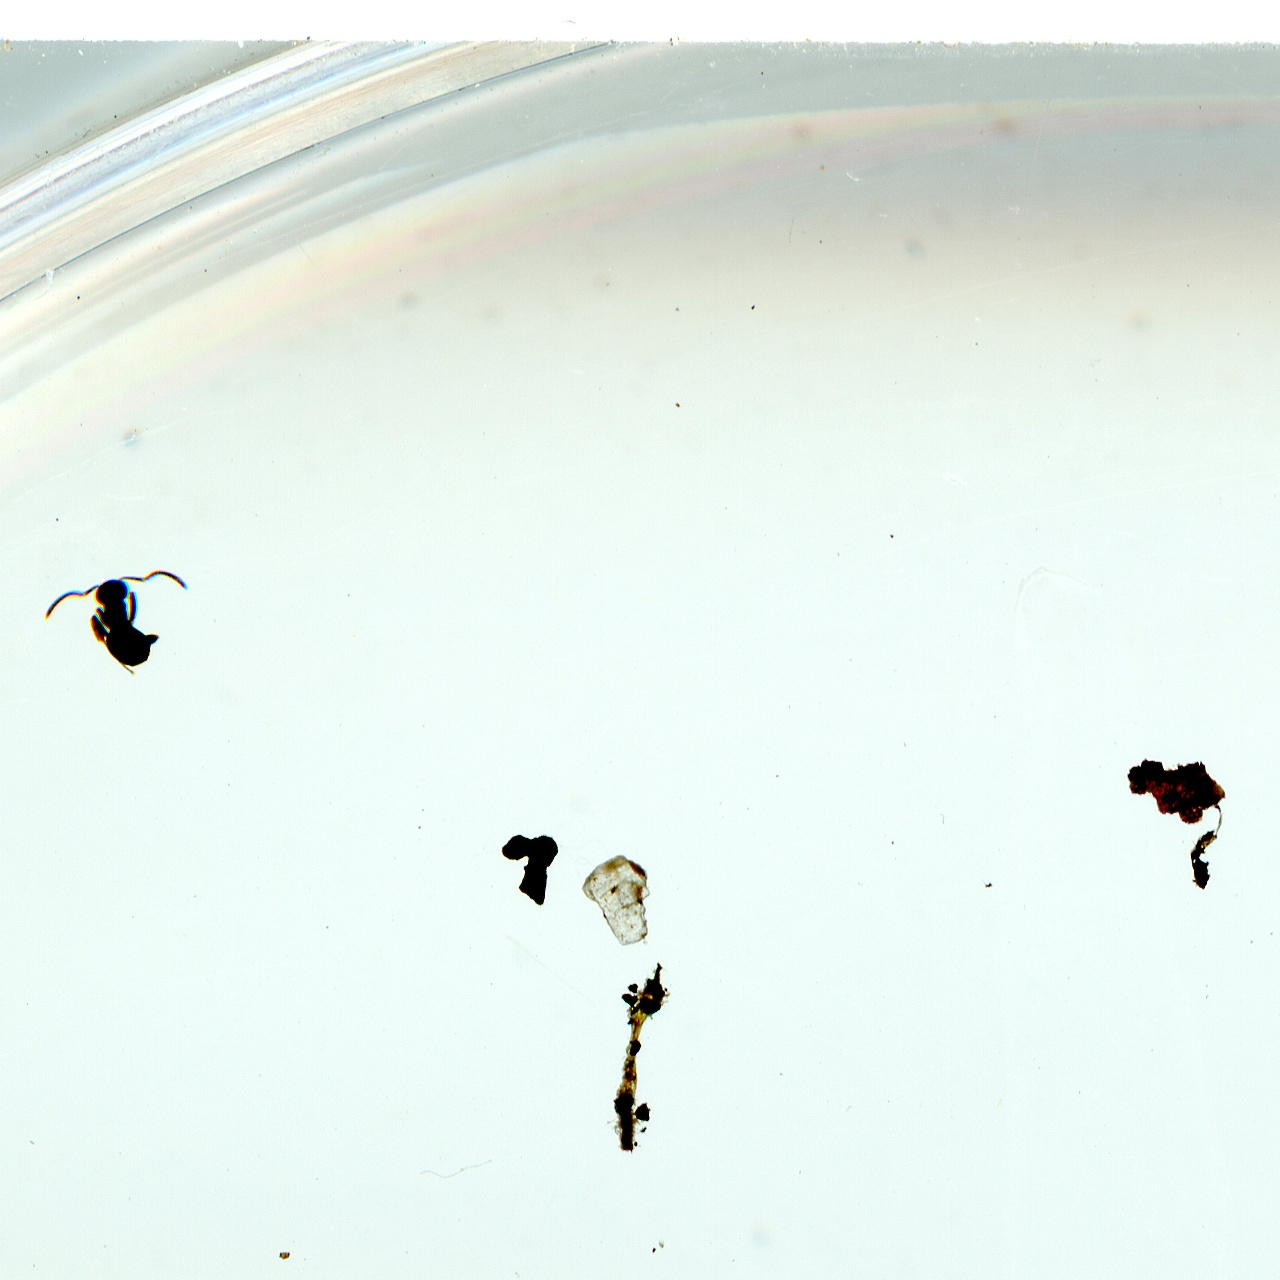arthropod: (25, 535, 189, 676)
